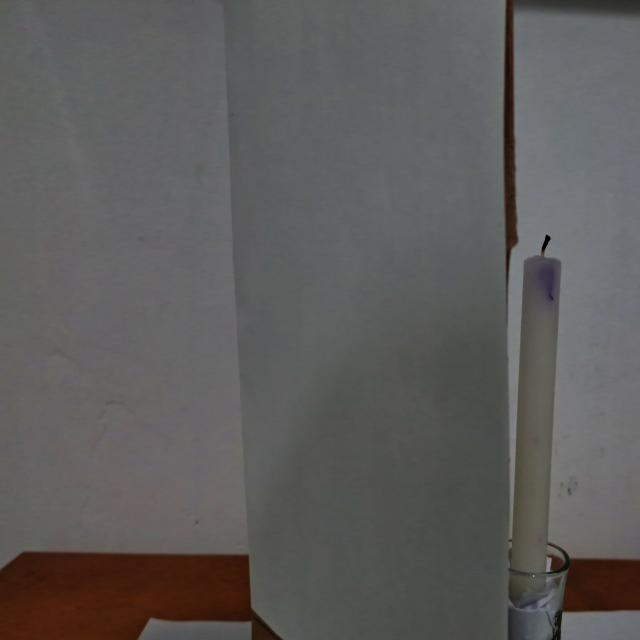candle: (514, 229, 576, 640)
wall: (226, 0, 510, 640)
